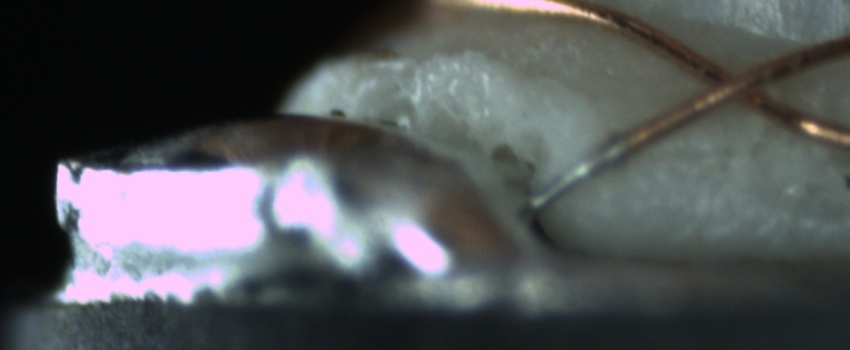CL: (687, 52, 786, 116)
DL: (599, 131, 725, 178)
TS: (527, 135, 628, 214)
TTCW: (526, 110, 669, 212)
